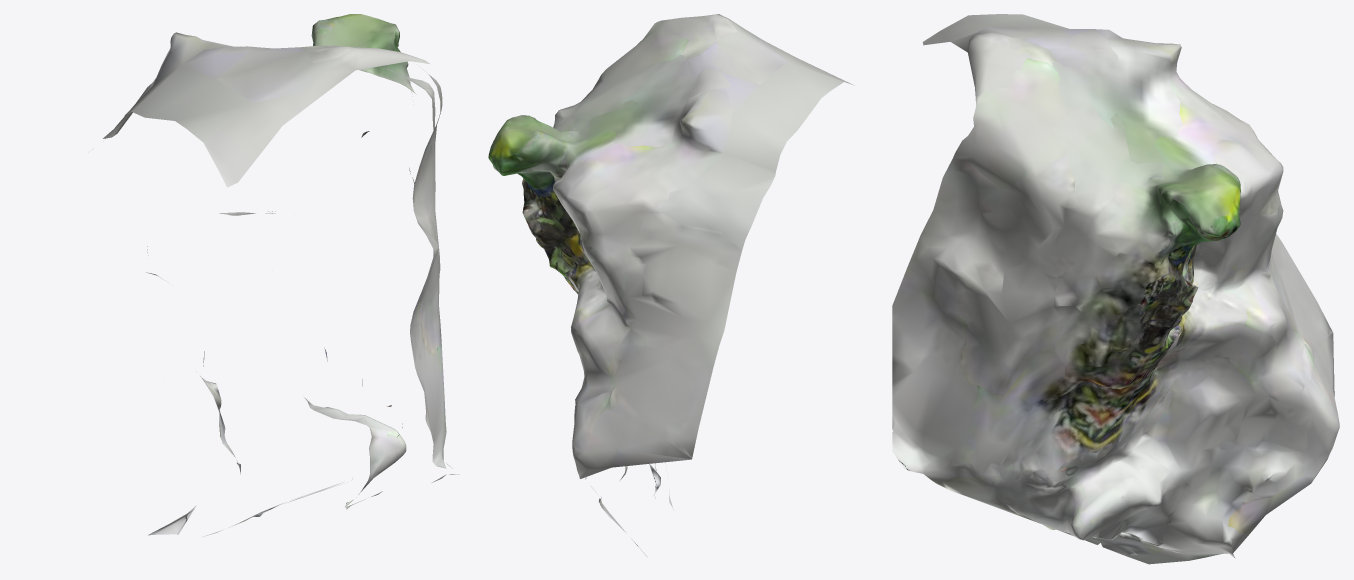
Rendered from hall.glb.
3 views of the same model, side by side, from view 1: azimuth 30°, elevation 25°; view 2: azimuth 150°, elevation 25°; view 3: azimuth 270°, elevation 25° (orthographic). The views are drawn at different scales.
Bounding box in the file's own units: 0.8462 × 1.45 × 1.08.
1 material, 1 textured.
